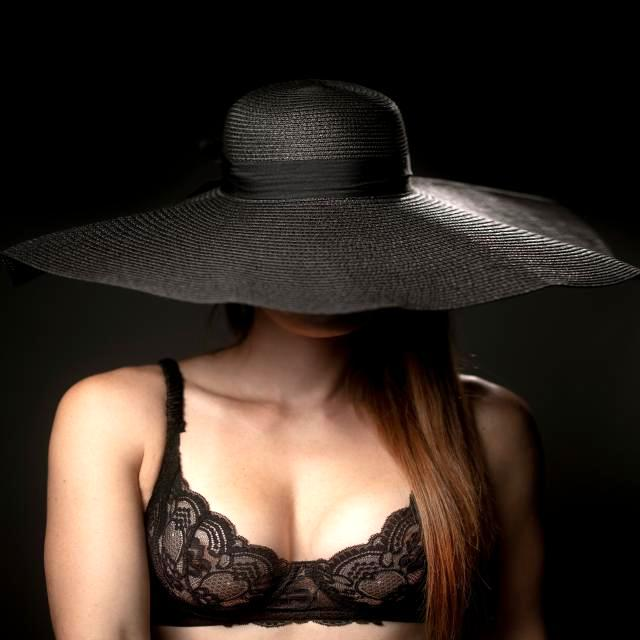no_hard_hat: (3, 80, 640, 315)
person: (45, 309, 546, 640)
